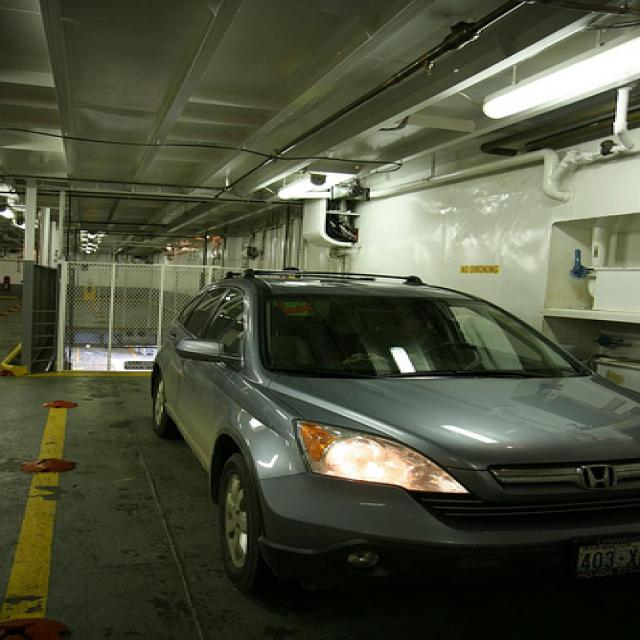Car: (140, 262, 637, 603)
